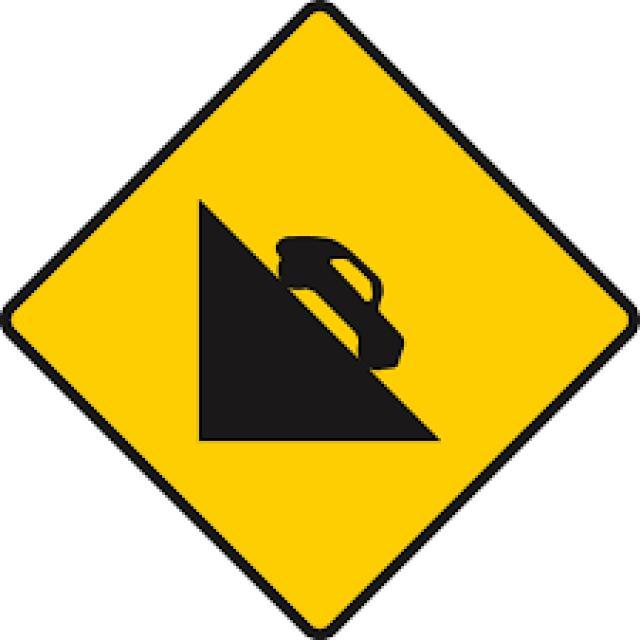steep descent: (47, 47, 581, 562)
